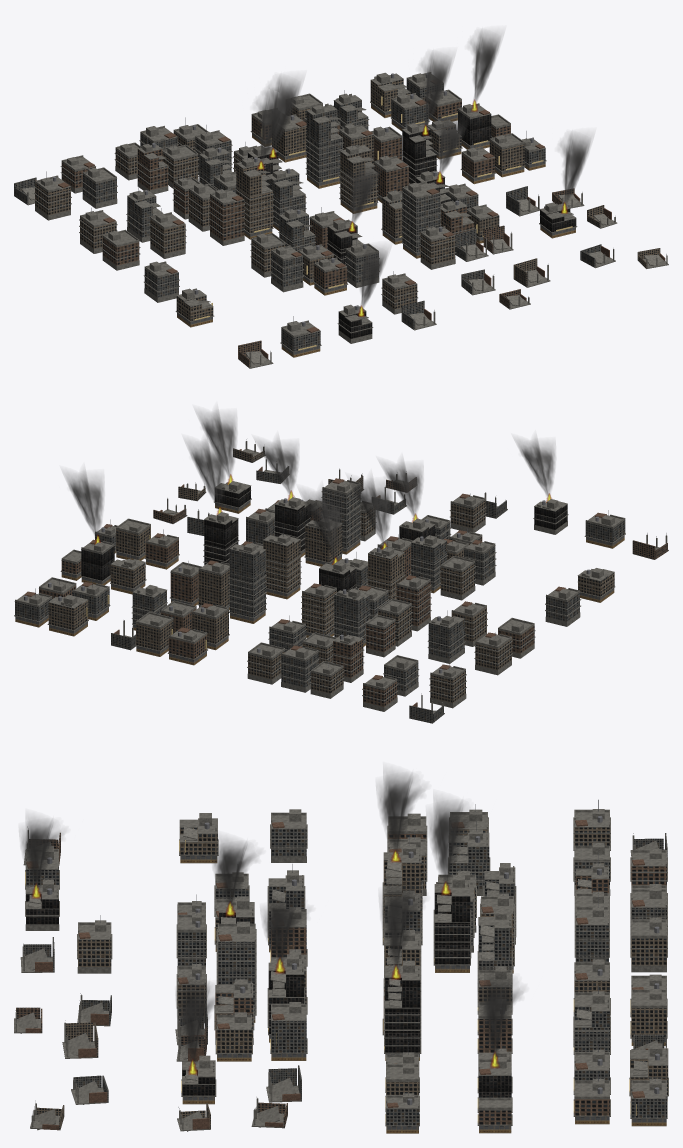
The model's file is Buildings.glb.
The picture shows the model from 3 angles, top to bottom: view 1: azimuth 30°, elevation 25°; view 2: azimuth 150°, elevation 25°; view 3: azimuth 270°, elevation 25°; orthographic projection. The views are drawn at different scales.
Visible parts, largest first — view 1: Buildings; view 2: Buildings; view 3: Buildings.
Part boxes in pixels (<box>): Buildings: <box>14,30,668,368</box>; Buildings: <box>14,409,668,723</box>; Buildings: <box>14,770,668,1133</box>.
Bounding box in the file's own units: 289 × 88.97 × 276.
11 materials, 9 textured.
